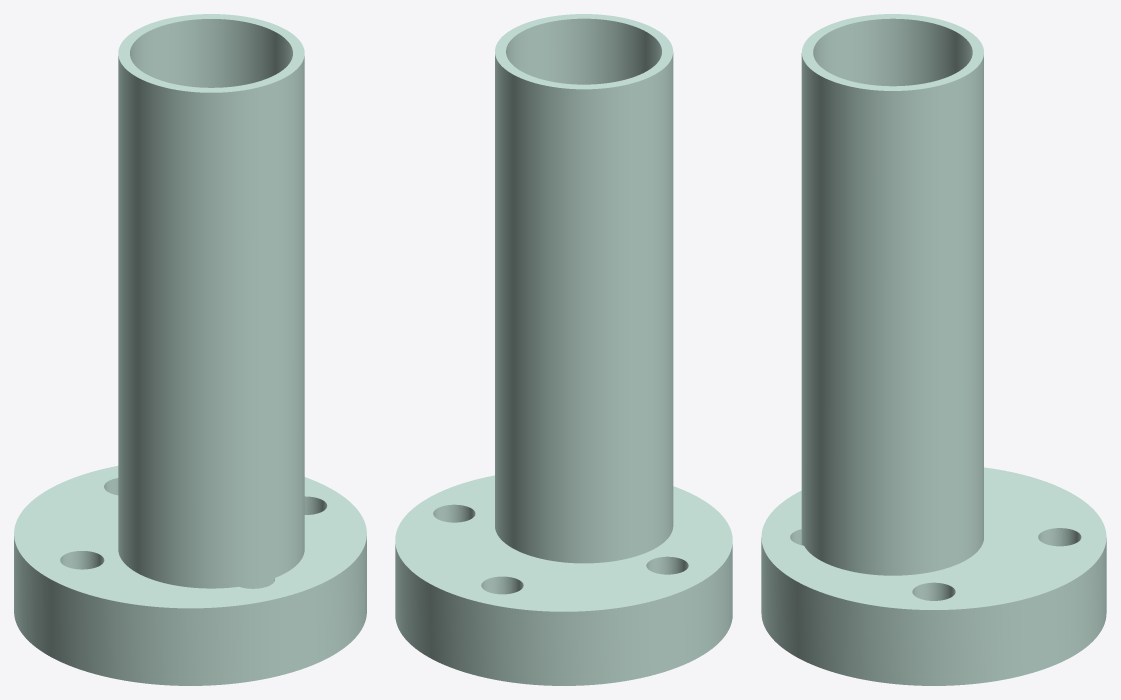
3 views of the same model, side by side, from view 1: azimuth 30°, elevation 25°; view 2: azimuth 150°, elevation 25°; view 3: azimuth 270°, elevation 25° (orthographic). The views are drawn at different scales.
Visible parts, largest first — view 1: Renderer Node; view 2: Renderer Node; view 3: Renderer Node.
Boxes of the visible parts, x1,y1,x2,y2 form: Renderer Node: [14, 14, 366, 685]; Renderer Node: [395, 14, 732, 685]; Renderer Node: [761, 14, 1106, 685].
Bounding box in the file's own units: 0.4183 × 0.75 × 0.4184.
